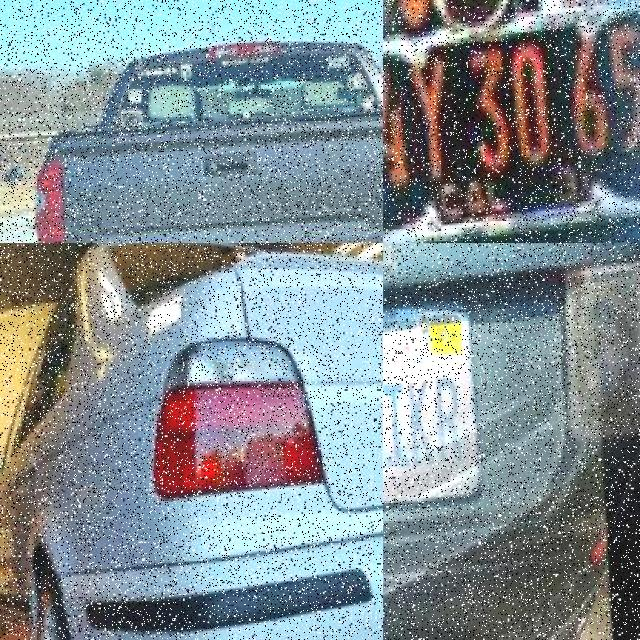licenseplate: (383, 20, 640, 205), (383, 305, 499, 523)
